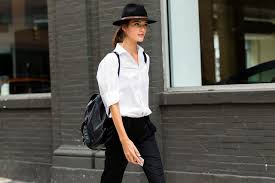F_shirt: (95, 42, 161, 118)
